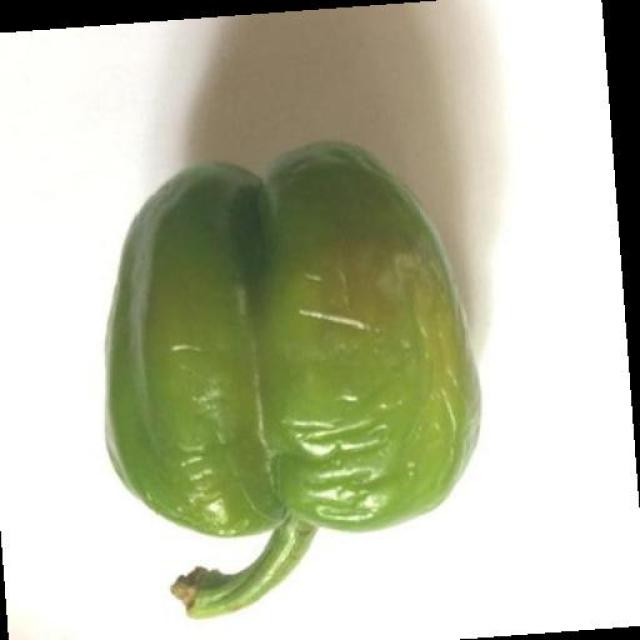Stale_Capsicum: (217, 161, 468, 527)
